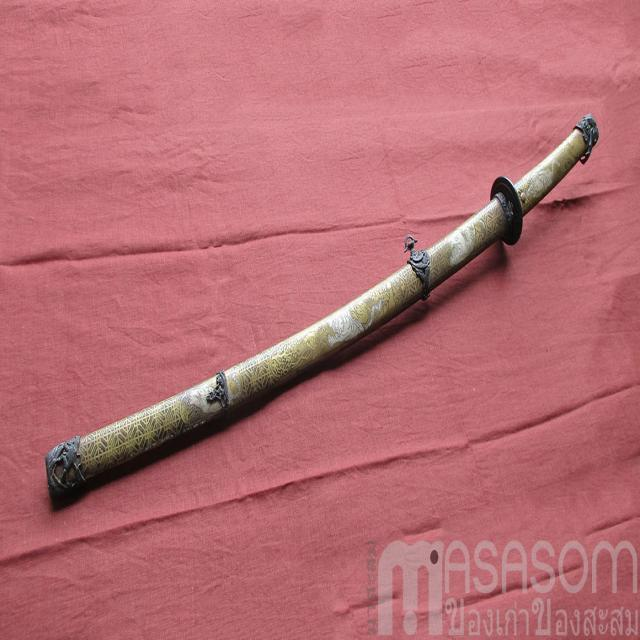long sword: (48, 113, 596, 514)
